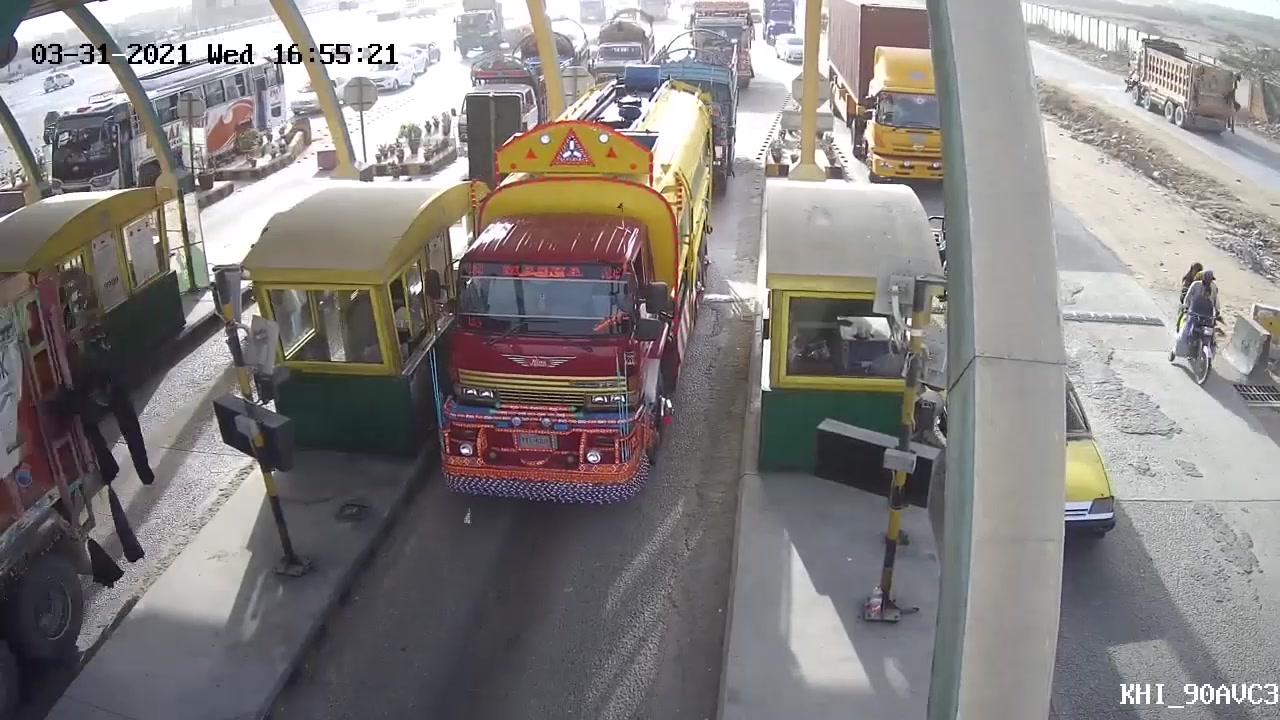F6: (426, 75, 730, 519)
